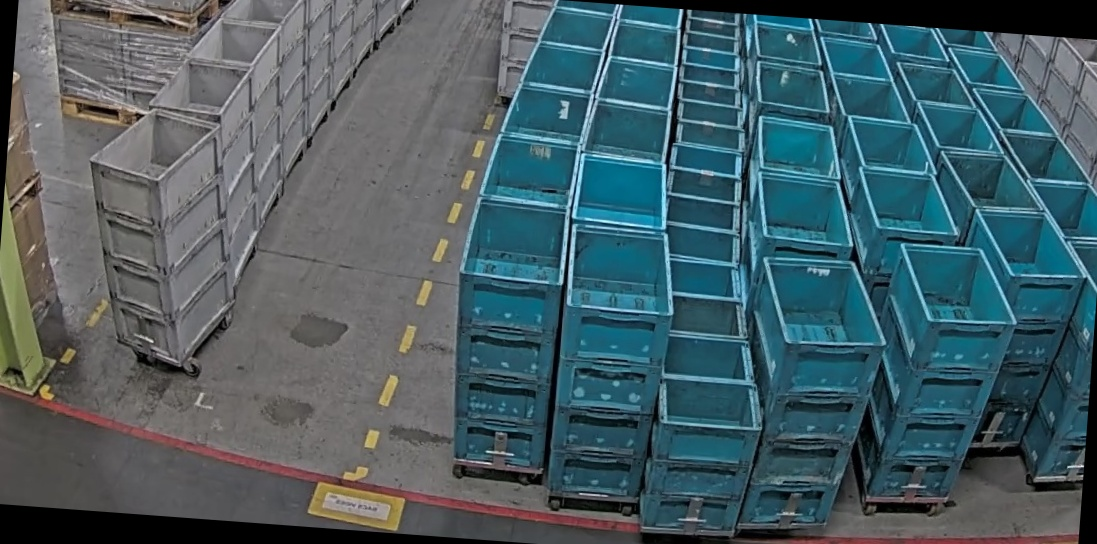4G: (76, 106, 250, 367)
B4: (852, 239, 1020, 509), (736, 254, 892, 534), (548, 222, 680, 504), (949, 207, 1091, 458), (445, 195, 572, 475)
B8: (641, 332, 768, 536)
